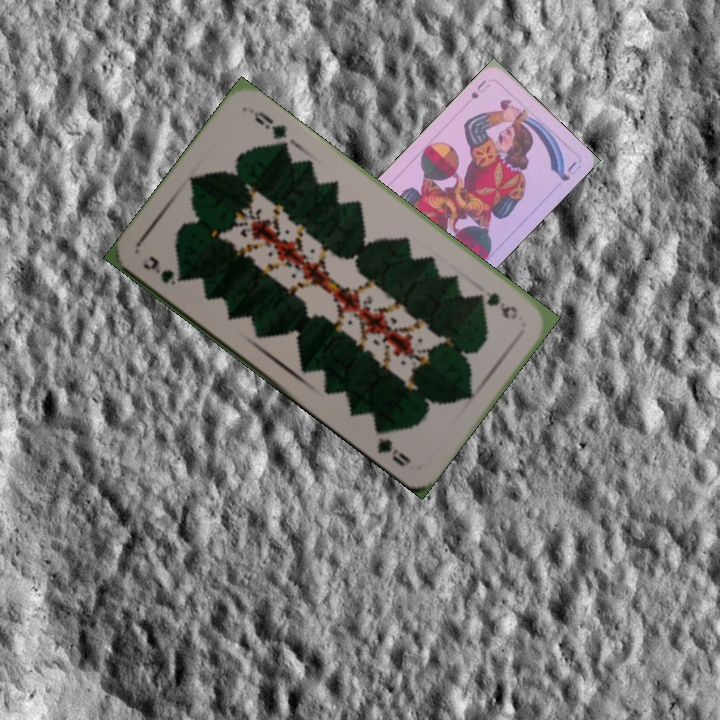G9: (472, 286, 521, 323), (139, 251, 187, 288)
SU: (467, 76, 493, 102)
